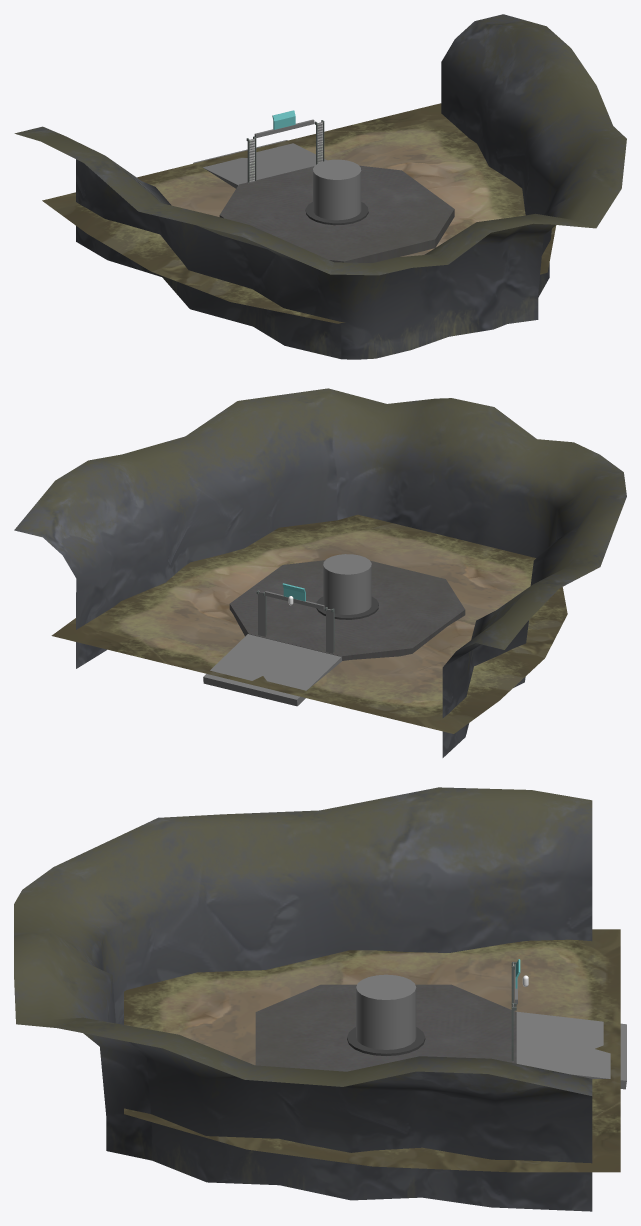
File: terminusgreybox.fbx
The picture shows the model from 3 angles, top to bottom: view 1: azimuth 30°, elevation 25°; view 2: azimuth 150°, elevation 25°; view 3: azimuth 270°, elevation 25°; orthographic projection. The views are drawn at different scales.
Parts seen in each view (by area): view 1: CurvedWall, EndFloor, MechPlatform, Cylinder, Cube_1, Cylinder__1_; view 2: CurvedWall, EndFloor, MechPlatform, Cube_1, Cylinder; view 3: CurvedWall, EndFloor, MechPlatform, Cube_1, Cylinder, Cylinder__1_.
Part boxes in pixels (box(x1,y1,x2,y2)): CurvedWall: box(14, 14, 626, 359); EndFloor: box(42, 103, 556, 323); MechPlatform: box(219, 165, 454, 262); Cylinder: box(313, 159, 361, 220); Cube_1: box(193, 140, 326, 188); Cylinder__1_: box(305, 202, 368, 225); CurvedWall: box(14, 388, 626, 757); EndFloor: box(51, 514, 567, 733); MechPlatform: box(229, 560, 465, 660); Cube_1: box(203, 634, 341, 706); Cylinder: box(323, 554, 371, 614); CurvedWall: box(14, 787, 592, 1211); EndFloor: box(124, 929, 620, 1172); MechPlatform: box(255, 984, 516, 1071); Cube_1: box(516, 1011, 626, 1089); Cylinder: box(356, 974, 416, 1049); Cylinder__1_: box(347, 1027, 425, 1055).
Bounding box in the file's own units: 11590 × 3201 × 10123.
Materials: 6 (2 with a texture image).
